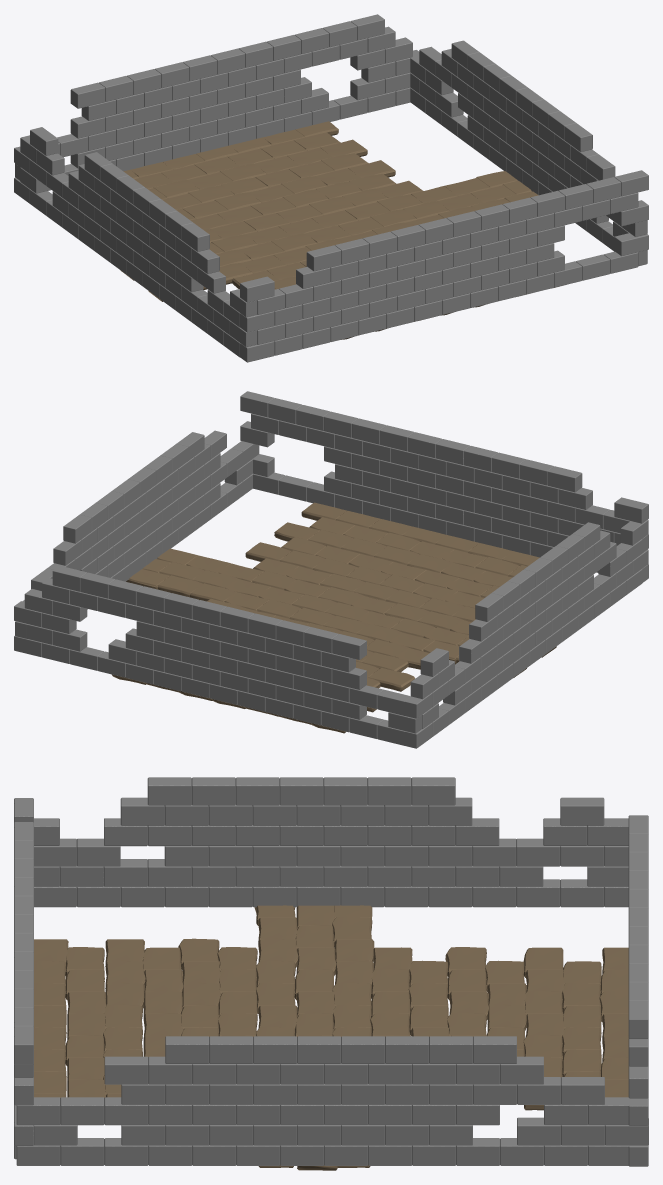
The model's file is GeometryNodeFloorPremade.2024.06.19.fbx.
The picture shows the model from 3 angles, top to bottom: view 1: azimuth 30°, elevation 25°; view 2: azimuth 150°, elevation 25°; view 3: azimuth 270°, elevation 25°; orthographic projection. The views are drawn at different scales.
Parts seen in each view (by area): view 1: Walls, Floor; view 2: Walls, Floor; view 3: Walls, Floor.
Boxes of the visible parts, left/top/right/bottom form: Walls: left=14, top=14, right=648, bottom=362; Floor: left=120, top=121, right=559, bottom=339; Walls: left=14, top=391, right=648, bottom=748; Floor: left=112, top=502, right=556, bottom=733; Walls: left=14, top=777, right=648, bottom=1166; Floor: left=34, top=905, right=628, bottom=1170.
Size of the model in its own units: 29.21 by 6.57 by 29.26.
